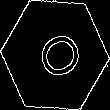O_SW: (26, 24, 84, 86)
